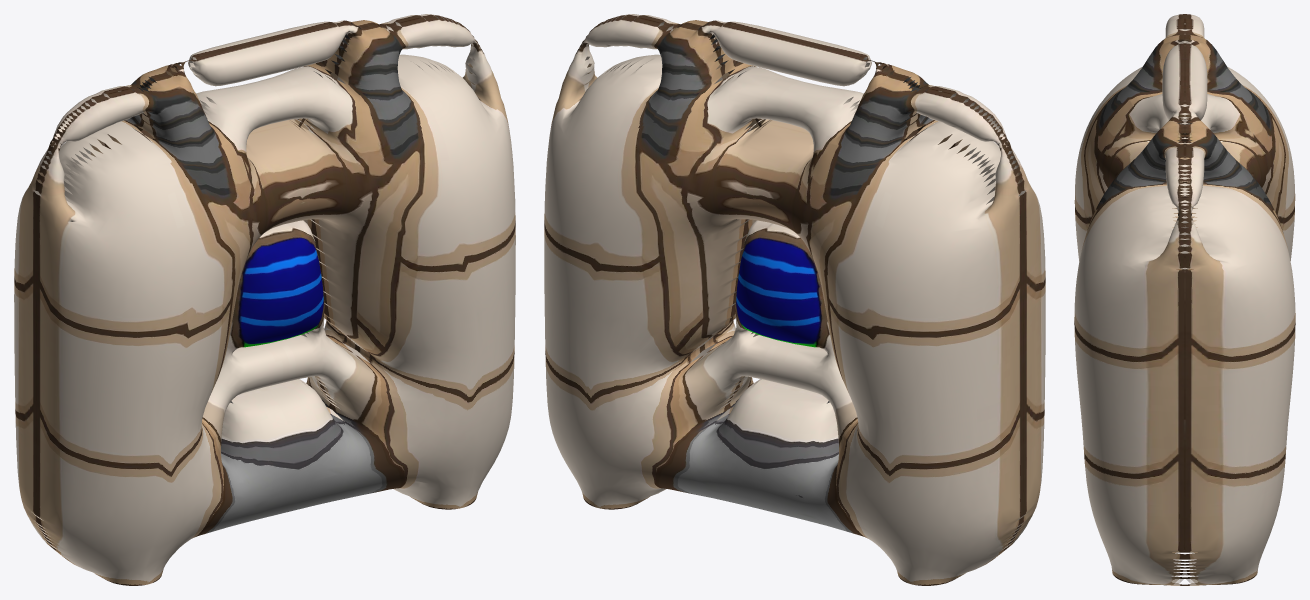
The model's file is side_bulkhead.glb.
The picture shows the model from 3 angles, left to right: view 1: azimuth 30°, elevation 25°; view 2: azimuth 150°, elevation 25°; view 3: azimuth 270°, elevation 25°; orthographic projection. The views are drawn at different scales.
Parts seen in each view (by area): view 1: side_bulkhead; view 2: side_bulkhead; view 3: side_bulkhead.
Part boxes in pixels (<box>): side_bulkhead: <box>14,14,515,585</box>; side_bulkhead: <box>544,14,1045,585</box>; side_bulkhead: <box>1074,14,1295,585</box>.
Size of the model in its own units: 0.9889 by 0.9853 by 0.4594.
Materials: 1 (1 with a texture image).
